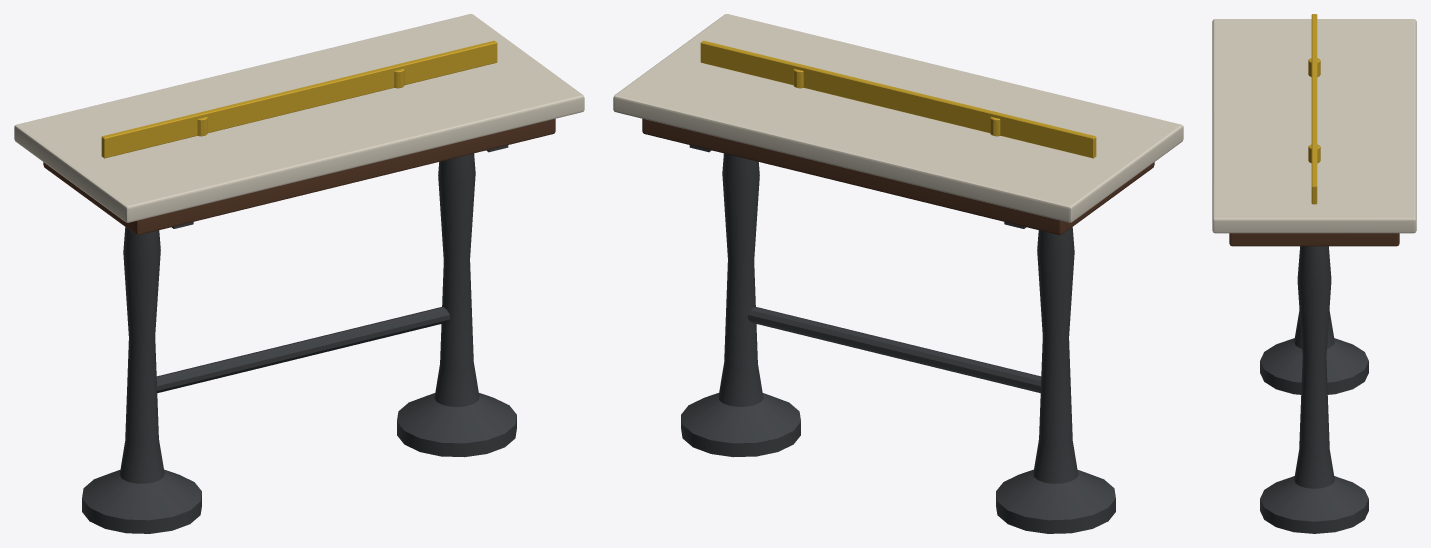
File: prop_check_table.glb
3 renders of one model, left to right at view 1: azimuth 30°, elevation 25°; view 2: azimuth 150°, elevation 25°; view 3: azimuth 270°, elevation 25°, orthographic. The views are drawn at different scales.
Visible parts, largest first — view 1: Table; view 2: Table; view 3: Table.
Part boxes in pixels (<box>): Table: <box>14,14,584,533</box>; Table: <box>613,14,1183,533</box>; Table: <box>1212,14,1416,533</box>.
Size of what is drawn, in the model's own units: 1.4 by 1.11 by 0.6.
